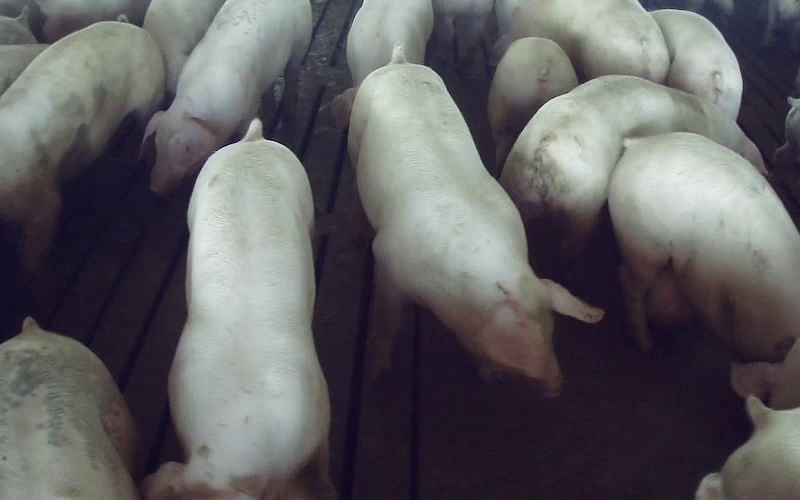pig: (349, 45, 602, 395), (143, 120, 332, 499), (500, 75, 764, 252), (608, 132, 799, 360), (0, 21, 164, 270), (0, 318, 136, 499), (494, 0, 669, 82), (488, 37, 577, 175), (651, 10, 742, 119)
